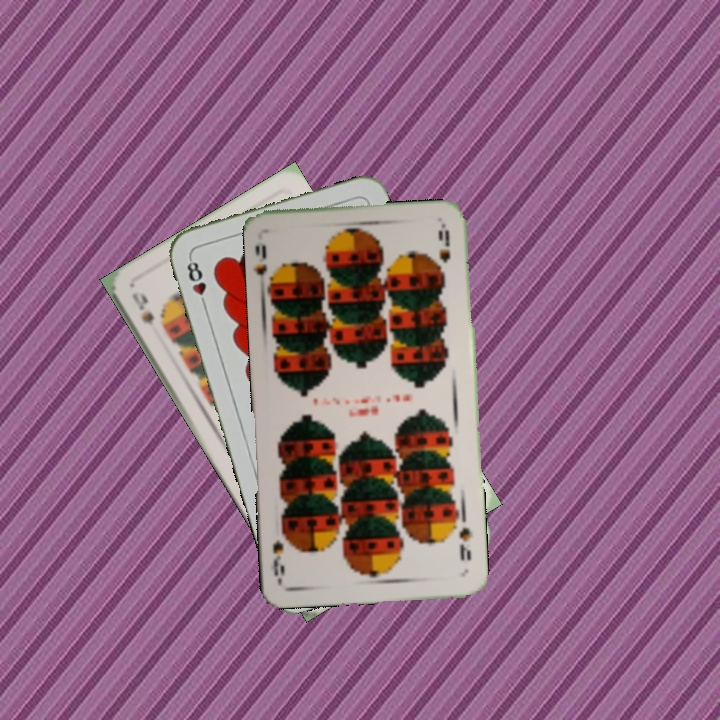H8: (183, 253, 210, 311)
S9: (251, 240, 280, 292), (128, 288, 157, 329), (455, 523, 474, 564)
